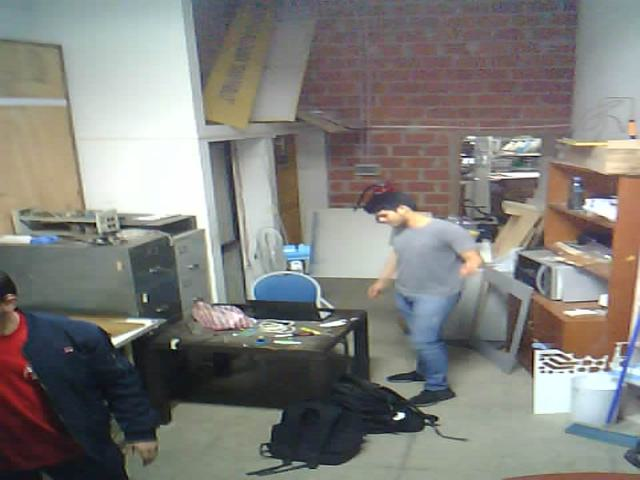person: (0, 262, 178, 480), (351, 164, 492, 416)
